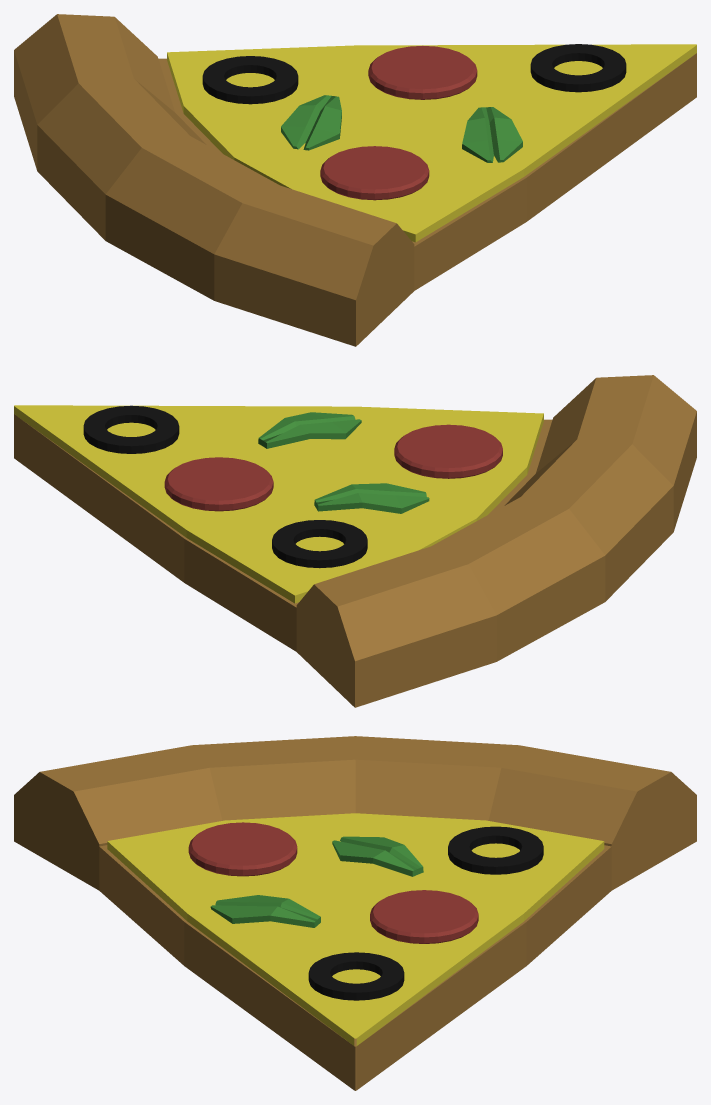
Rendered from Item_PizzaSlice.fbx.
The picture shows the model from 3 angles, top to bottom: view 1: azimuth 30°, elevation 25°; view 2: azimuth 150°, elevation 25°; view 3: azimuth 270°, elevation 25°; orthographic projection.
Visible parts, largest first — view 1: Circle.006; view 2: Circle.006; view 3: Circle.006.
Part boxes in pixels (x1,y1,x2,y2): Circle.006: [14, 14, 696, 346]; Circle.006: [14, 375, 696, 707]; Circle.006: [14, 736, 696, 1090].
Size of the model in its own units: 99.81 by 13.63 by 100.
